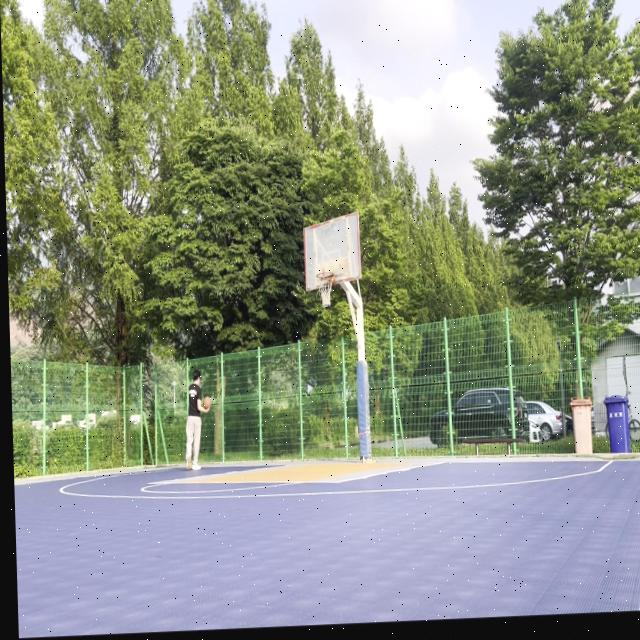basketball: (204, 396, 212, 410)
hoop: (316, 271, 335, 310)
